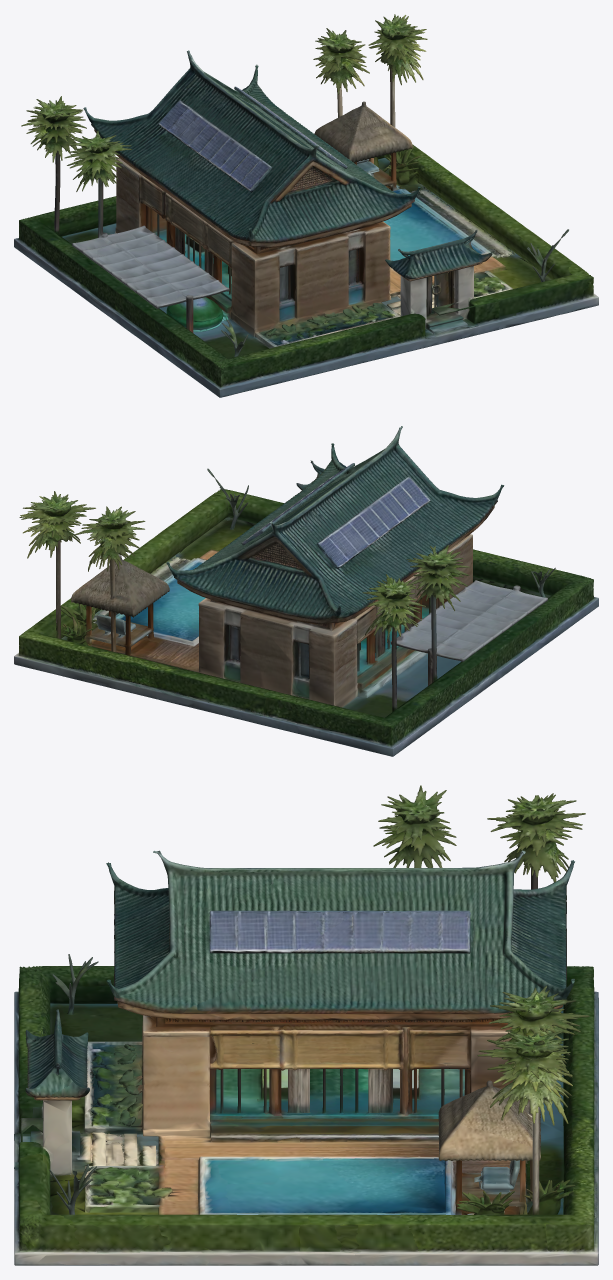
The model's file is villahi.glb.
3 views of the same model, one above another, from view 1: azimuth 30°, elevation 25°; view 2: azimuth 150°, elevation 25°; view 3: azimuth 270°, elevation 25° (orthographic). The views are drawn at different scales.
Parts seen in each view (by area): view 1: tripo_node_ffb416a0-5415-4ad8-8403-97ae84bd0f0a; view 2: tripo_node_ffb416a0-5415-4ad8-8403-97ae84bd0f0a; view 3: tripo_node_ffb416a0-5415-4ad8-8403-97ae84bd0f0a.
Boxes of the visible parts, box(x1,y1,x2,y2) form: tripo_node_ffb416a0-5415-4ad8-8403-97ae84bd0f0a: box(14, 14, 598, 397); tripo_node_ffb416a0-5415-4ad8-8403-97ae84bd0f0a: box(14, 426, 598, 756); tripo_node_ffb416a0-5415-4ad8-8403-97ae84bd0f0a: box(14, 785, 598, 1265).
Size of the model in its own units: 0.9852 by 0.42 by 0.8704.
Materials: 1 (1 with a texture image).
